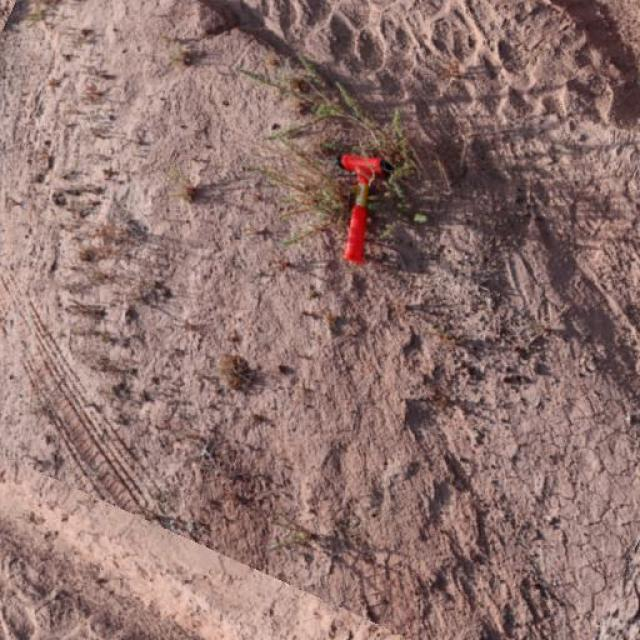mallet: (337, 151, 395, 264)
